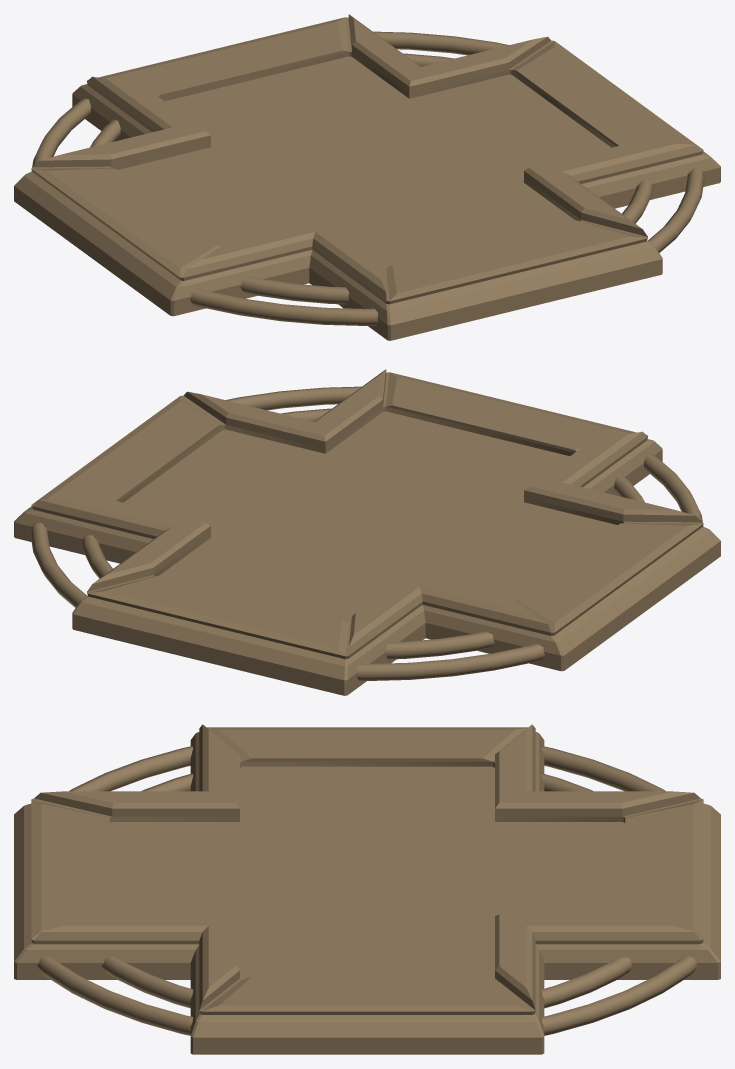
File: SM_CrossTable_Frame.fbx
3 renders of one model, top to bottom at view 1: azimuth 30°, elevation 25°; view 2: azimuth 150°, elevation 25°; view 3: azimuth 270°, elevation 25°, orthographic. The views are drawn at different scales.
Visible parts, largest first — view 1: SM_CrossTable_Frame; view 2: SM_CrossTable_Frame; view 3: SM_CrossTable_Frame.
Boxes of the visible parts, x1=… form: SM_CrossTable_Frame: x1=14, y1=14, x2=720, y2=340; SM_CrossTable_Frame: x1=14, y1=369, x2=720, y2=695; SM_CrossTable_Frame: x1=14, y1=724, x2=720, y2=1054.
Size of the model in its own units: 217 by 15.84 by 217.
